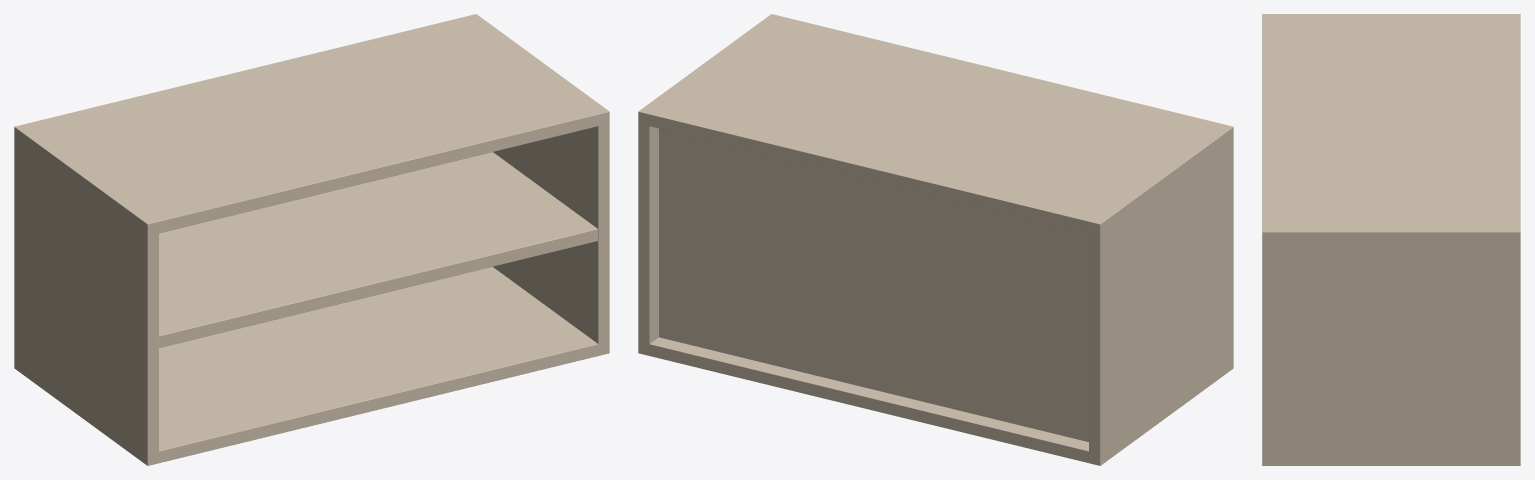
File: MOD-2X1-S-B-AR.glb
3 renders of one model, left to right at view 1: azimuth 30°, elevation 25°; view 2: azimuth 150°, elevation 25°; view 3: azimuth 270°, elevation 25°, orthographic. The views are drawn at different scales.
Bounding box in the file's own units: 720 × 360 × 360.
